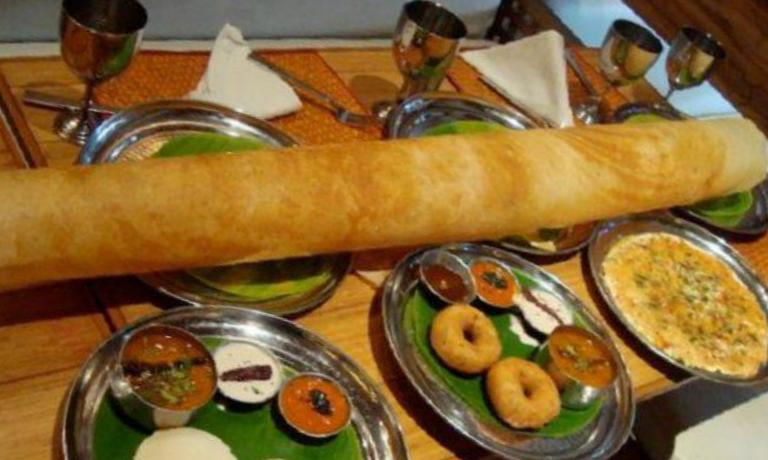dosa: (3, 111, 768, 291)
